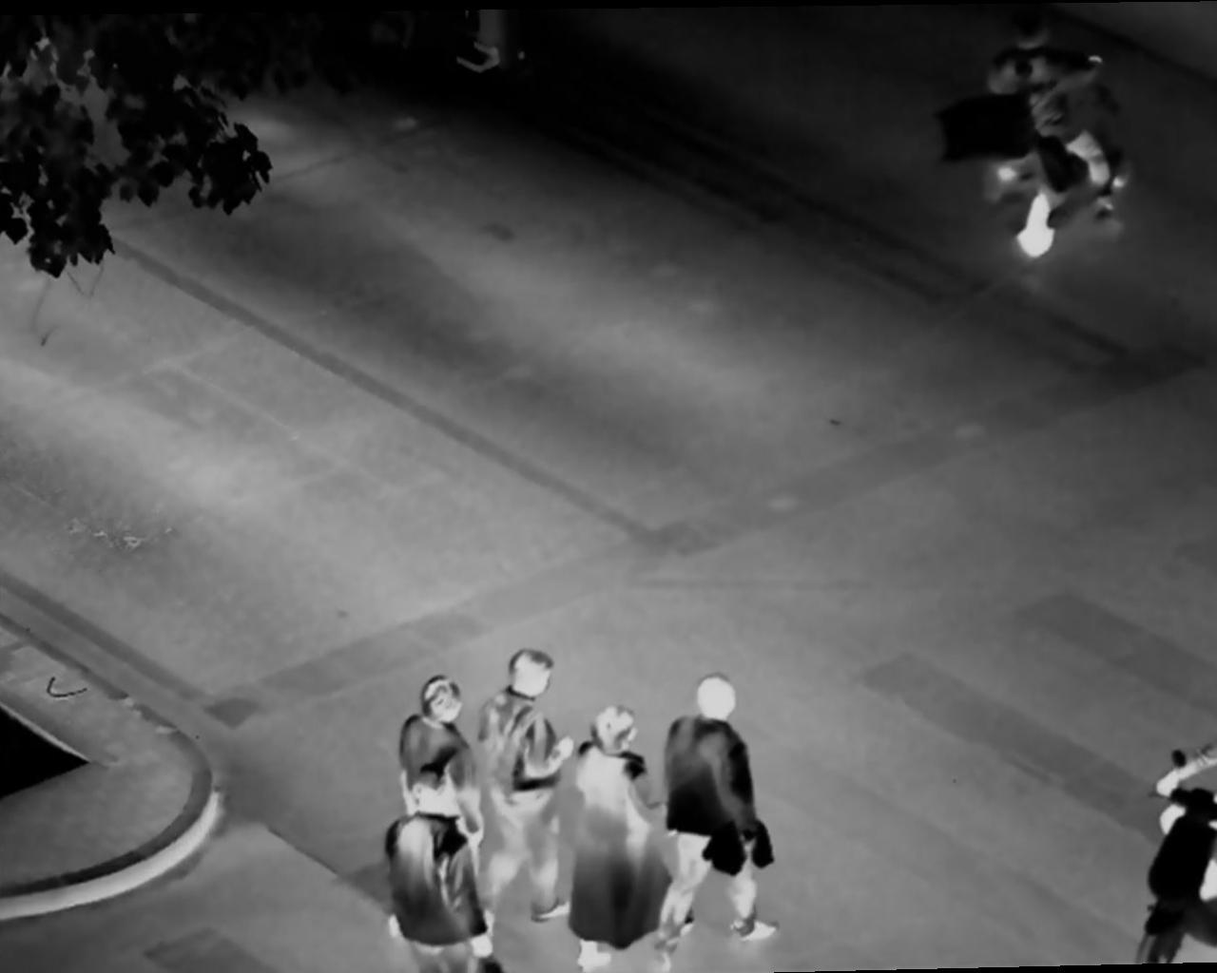person: (666, 666, 772, 973), (995, 29, 1133, 247), (484, 649, 567, 971), (571, 700, 647, 973), (391, 771, 475, 973), (390, 673, 477, 773)
